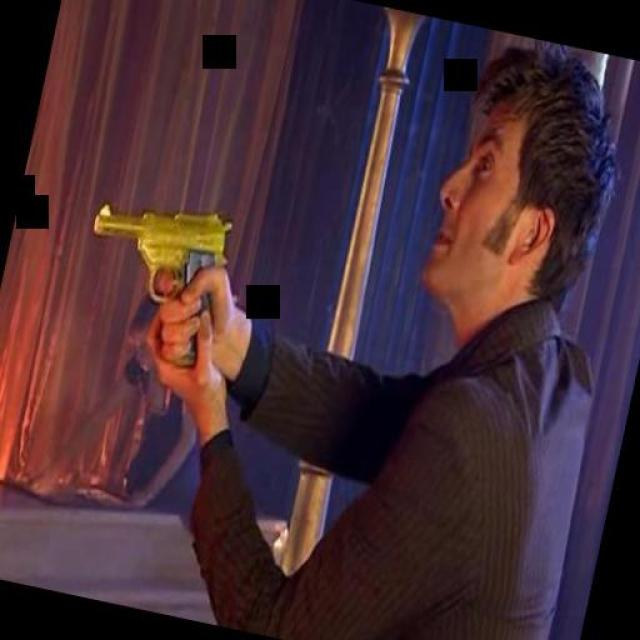gun: (64, 184, 236, 372)
